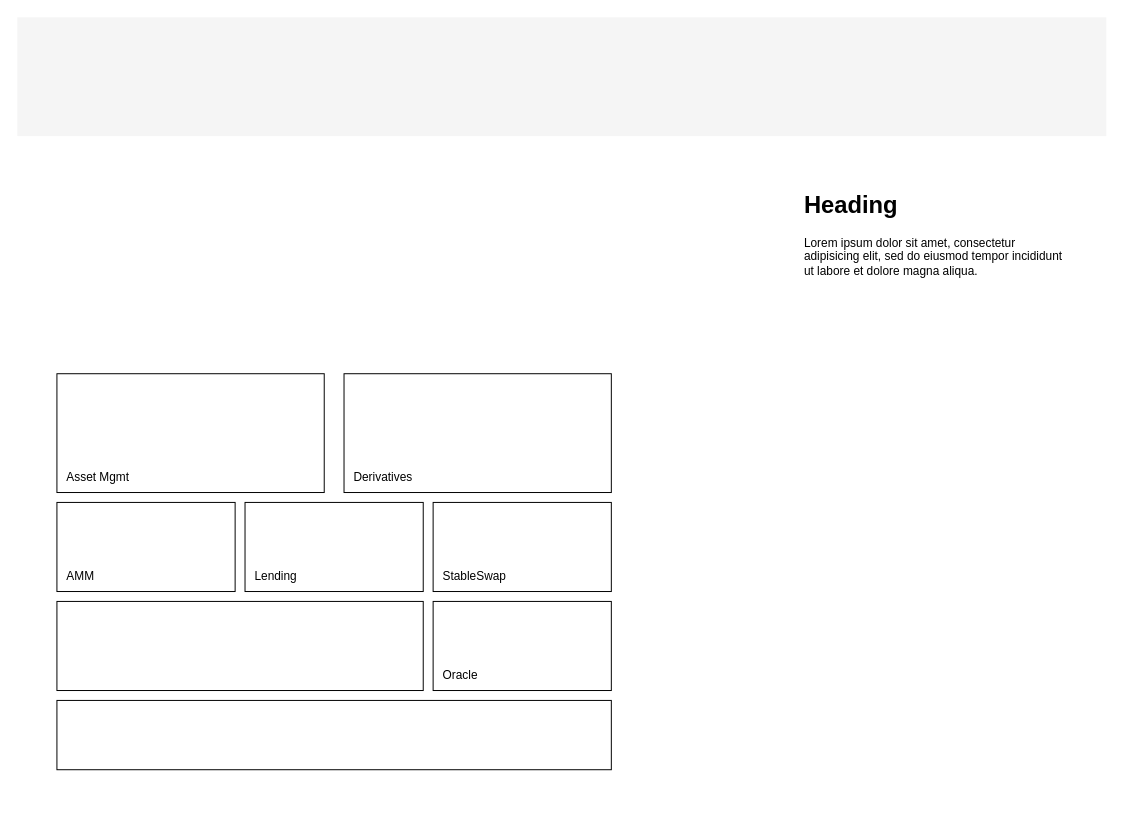
Image size: 1123x826. Some labels were removed from this diagram. Each missing label, with the centre of its shape:
Layer 1: point 333,734
Order Book: point 239,645
Title Goes Here: point 561,76
